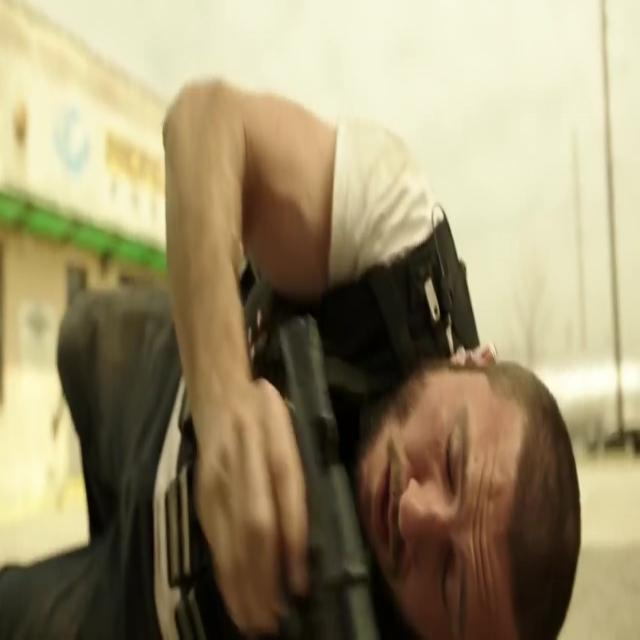Weapon: (238, 302, 382, 640)
